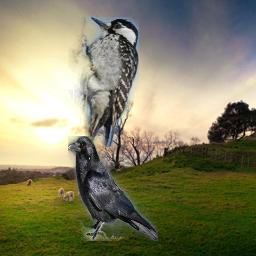Crow: (68, 136, 158, 241)
Woodpecker: (68, 17, 139, 147)
